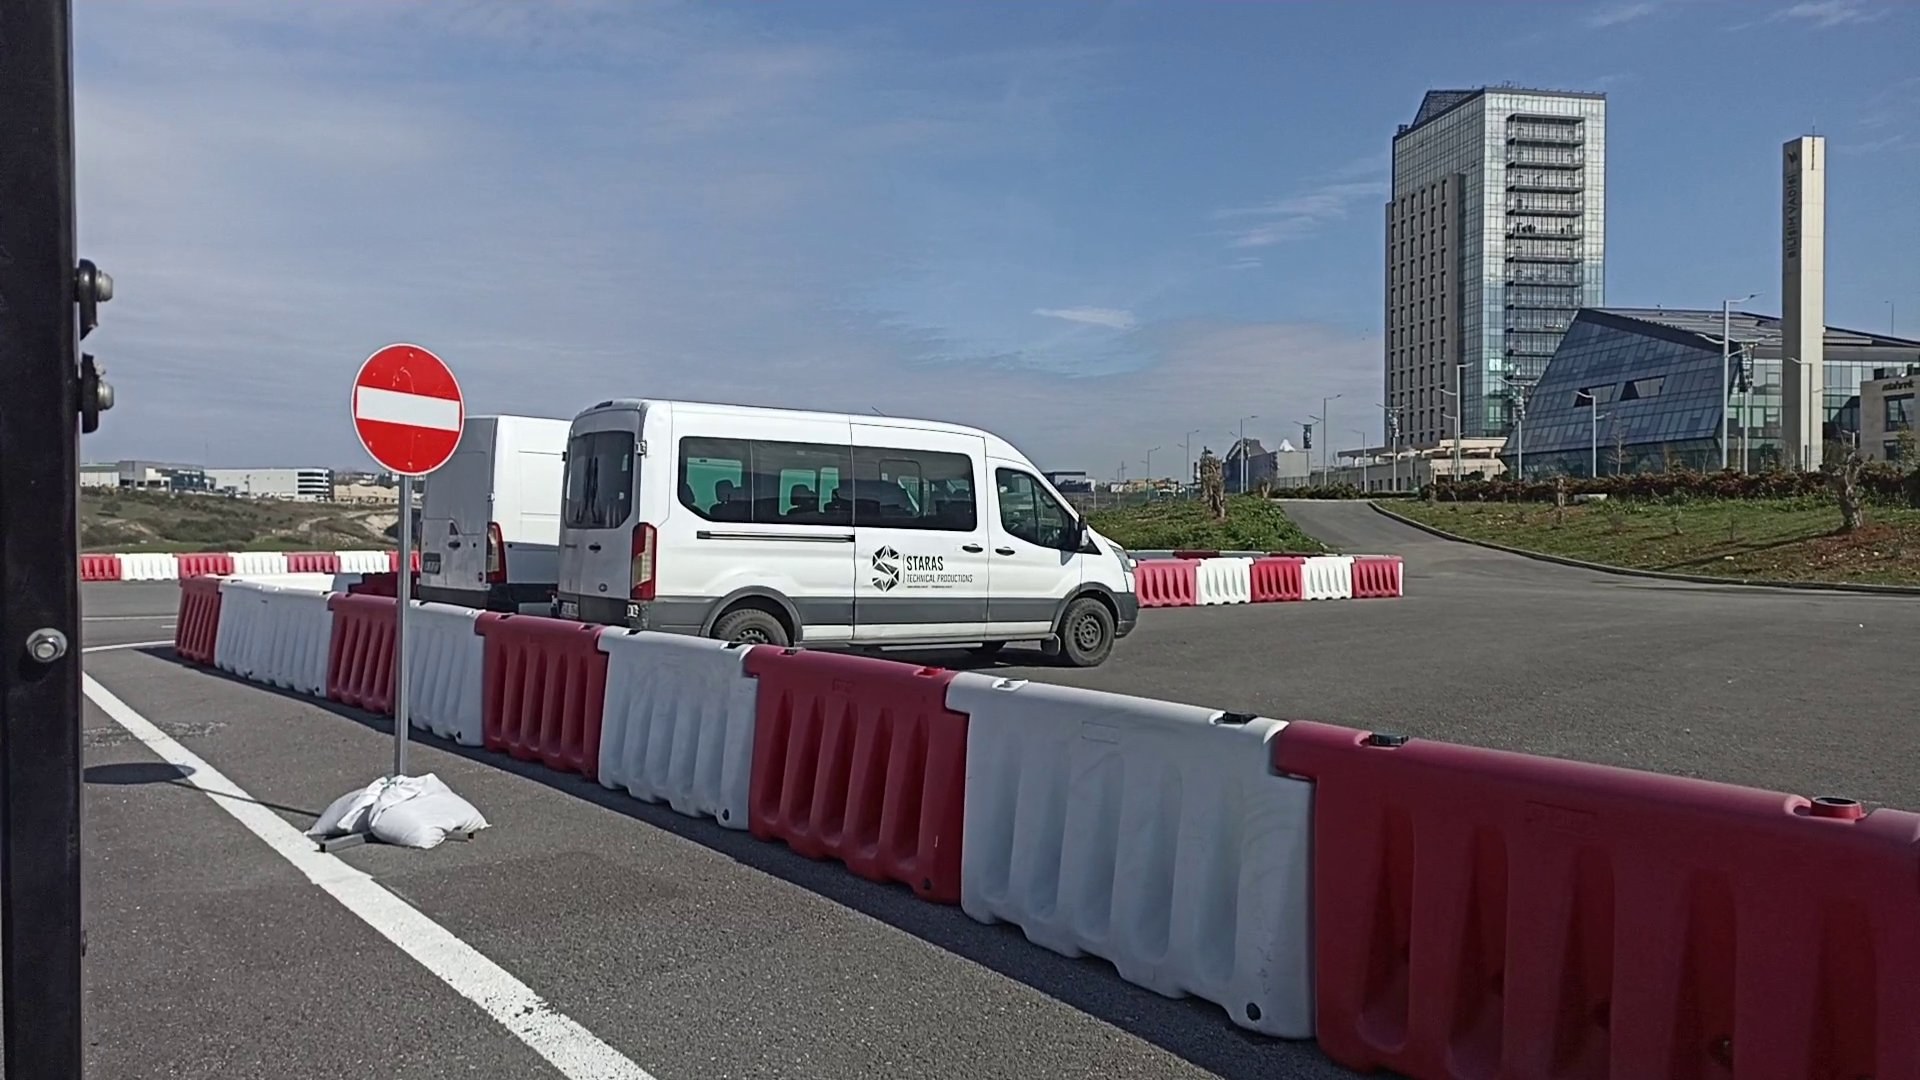noentryway: (347, 342, 465, 480)
